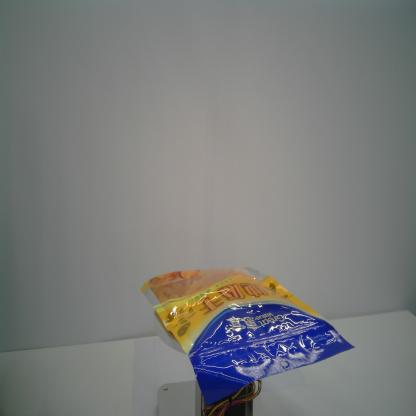Dried Fruit: (140, 265, 355, 407)
